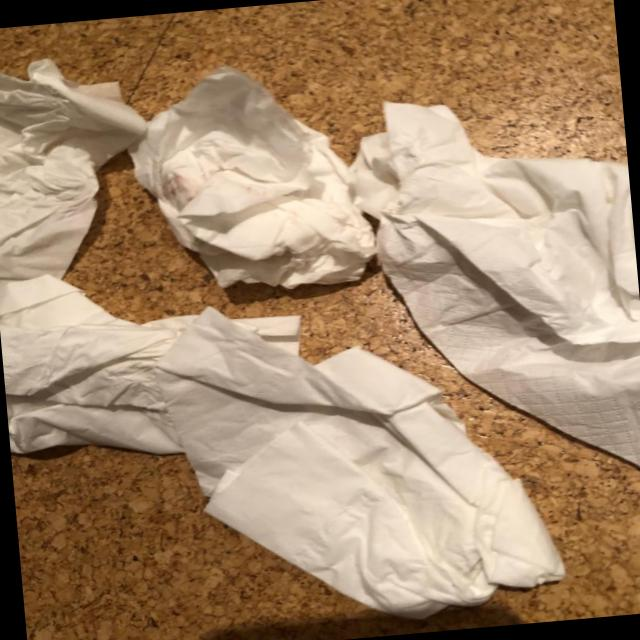organic waste: (144, 273, 568, 640), (349, 77, 640, 499), (0, 263, 316, 474), (123, 51, 377, 306), (0, 47, 158, 284)
